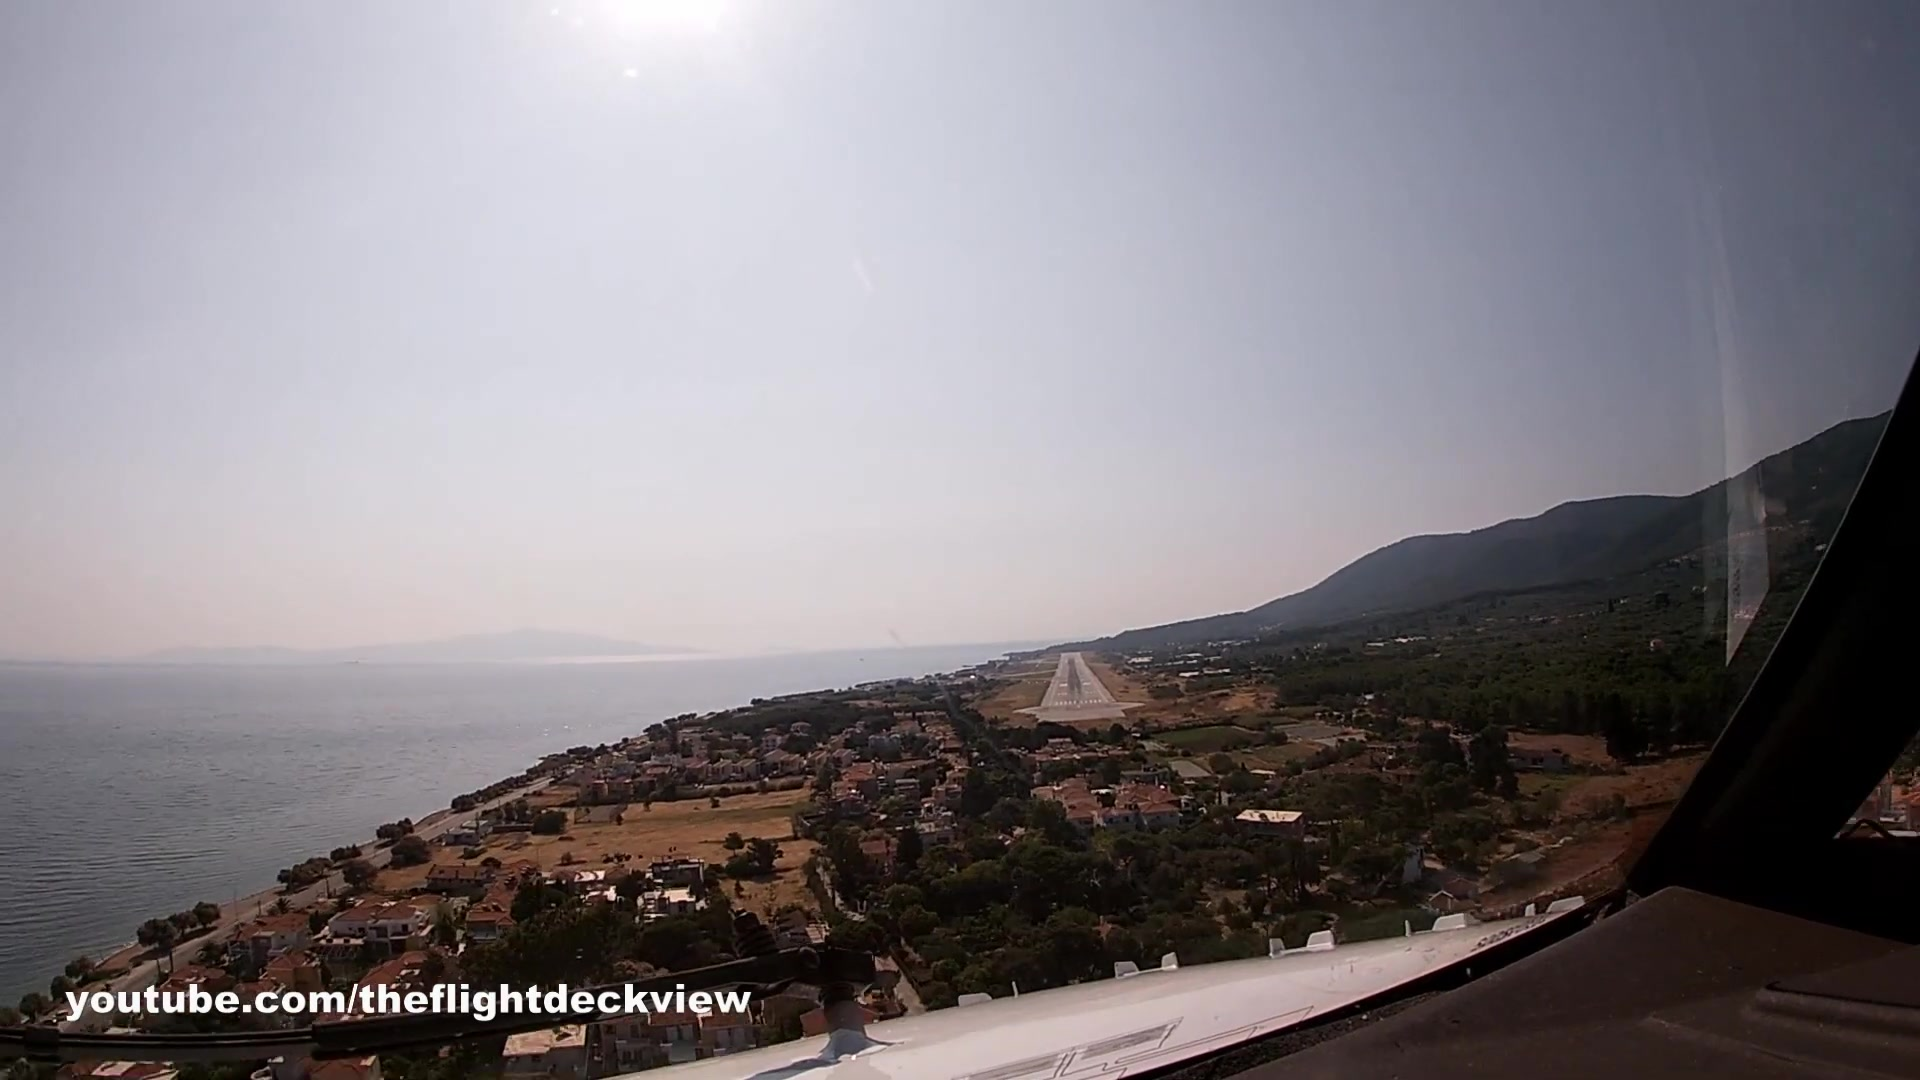entrance: (1052, 698, 1104, 707)
runway: (1036, 653, 1125, 719)
